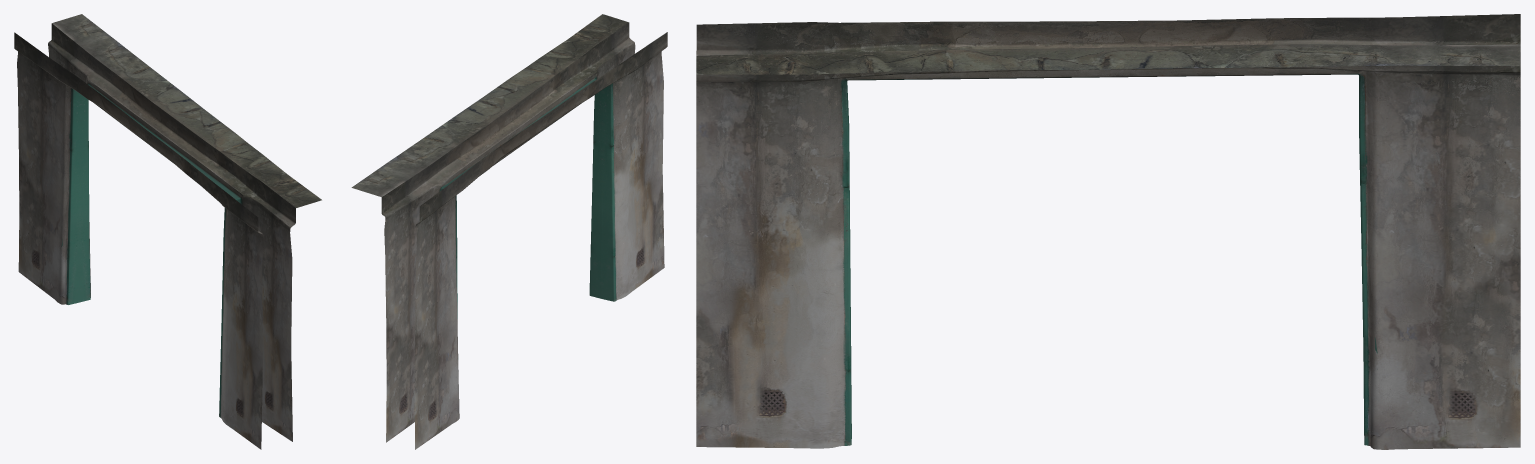
The model's file is sm_GarageFront_01_04.fbx.
3 renders of one model, left to right at view 1: azimuth 30°, elevation 25°; view 2: azimuth 150°, elevation 25°; view 3: azimuth 270°, elevation 25°, orthographic. The views are drawn at different scales.
Visible parts, largest first — view 1: sm_GarageFront_01_04_LOD0; view 2: sm_GarageFront_01_04_LOD0; view 3: sm_GarageFront_01_04_LOD0.
Part boxes in pixels (x1,y1,x2,y2): sm_GarageFront_01_04_LOD0: (14, 14, 321, 449); sm_GarageFront_01_04_LOD0: (351, 14, 667, 449); sm_GarageFront_01_04_LOD0: (696, 14, 1520, 449).
Size of the model in its own units: 555 by 88.77 by 305.
